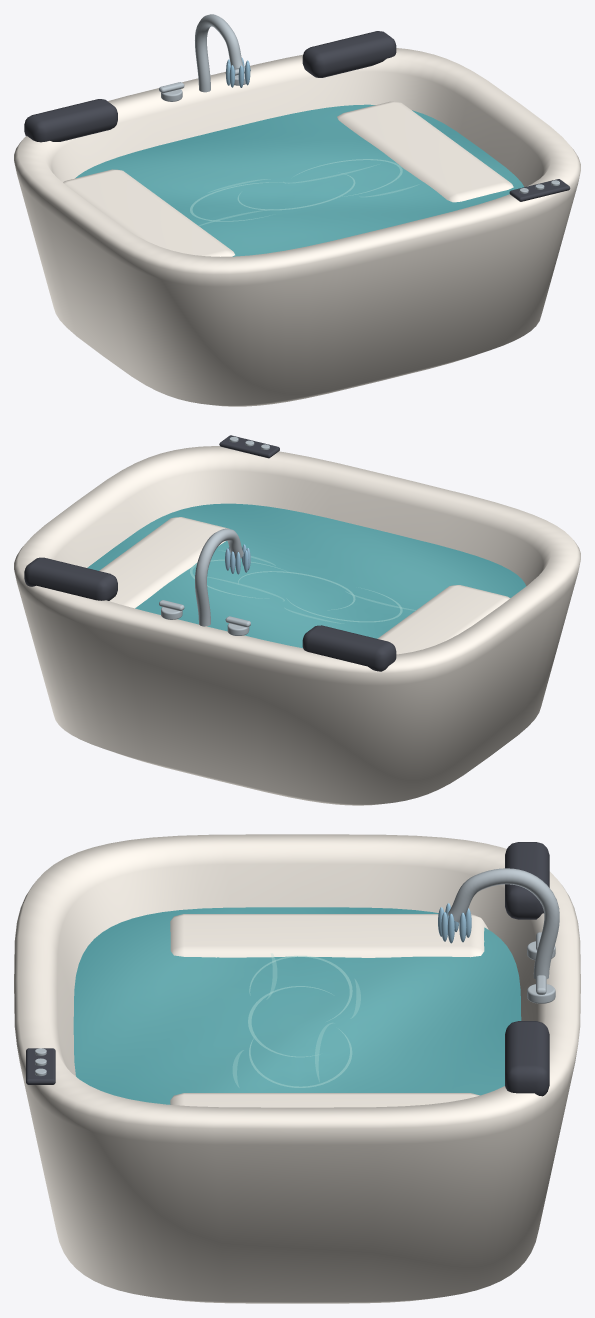
File: bathroomJacuzziWhite.glb
The picture shows the model from 3 angles, top to bottom: view 1: azimuth 30°, elevation 25°; view 2: azimuth 150°, elevation 25°; view 3: azimuth 270°, elevation 25°; orthographic projection. The views are drawn at different scales.
Parts seen in each view (by area): view 1: Jetted tub shell, Recessed bath water, Jacuzzi seat ledge.001, Jacuzzi seat ledge, Jacuzzi headrest.001, Jacuzzi headrest, Bath gooseneck faucet, Jacuzzi control panel; view 2: Jetted tub shell, Recessed bath water, Jacuzzi seat ledge.001, Jacuzzi seat ledge, Jacuzzi headrest, Jacuzzi headrest.001, Bath gooseneck faucet, Jacuzzi control panel; view 3: Jetted tub shell, Recessed bath water, Jacuzzi seat ledge, Jacuzzi seat ledge.001, Bath gooseneck faucet, Jacuzzi headrest.001, Jacuzzi headrest, Jacuzzi control panel.
Boxes of the visible parts, bbox=[...] form: Jetted tub shell: bbox=[14, 48, 580, 406]; Recessed bath water: bbox=[75, 104, 523, 256]; Jacuzzi seat ledge.001: bbox=[337, 101, 513, 202]; Jacuzzi seat ledge: bbox=[63, 169, 234, 256]; Jacuzzi headrest.001: bbox=[302, 31, 396, 77]; Jacuzzi headrest: bbox=[24, 99, 117, 142]; Bath gooseneck faucet: bbox=[195, 14, 243, 92]; Jacuzzi control panel: bbox=[509, 179, 570, 201]; Jetted tub shell: bbox=[14, 446, 580, 805]; Recessed bath water: bbox=[87, 503, 526, 648]; Jacuzzi seat ledge.001: bbox=[99, 517, 228, 608]; Jacuzzi seat ledge: bbox=[377, 585, 510, 654]; Jacuzzi headrest: bbox=[302, 625, 396, 671]; Jacuzzi headrest.001: bbox=[24, 557, 117, 600]; Bath gooseneck faucet: bbox=[195, 528, 243, 626]; Jacuzzi control panel: bbox=[219, 435, 279, 458]; Jetted tub shell: bbox=[14, 834, 580, 1303]; Recessed bath water: bbox=[73, 907, 521, 1104]; Jacuzzi seat ledge: bbox=[170, 914, 488, 957]; Jacuzzi seat ledge.001: bbox=[170, 1093, 479, 1107]; Bath gooseneck faucet: bbox=[448, 868, 559, 979]; Jacuzzi headrest.001: bbox=[505, 1021, 549, 1096]; Jacuzzi headrest: bbox=[505, 842, 549, 919]; Jacuzzi control panel: bbox=[26, 1048, 55, 1084].
Bounding box in the file's own units: 2.3 × 1.2 × 1.9.
